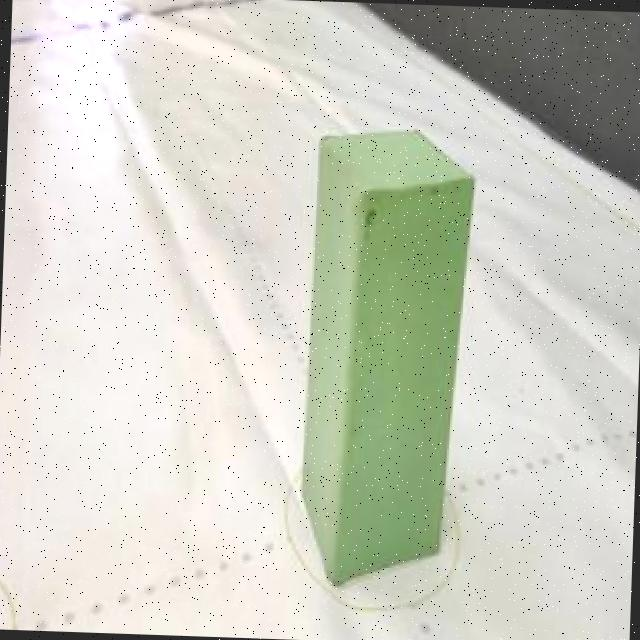greenbox: (294, 124, 476, 596)
